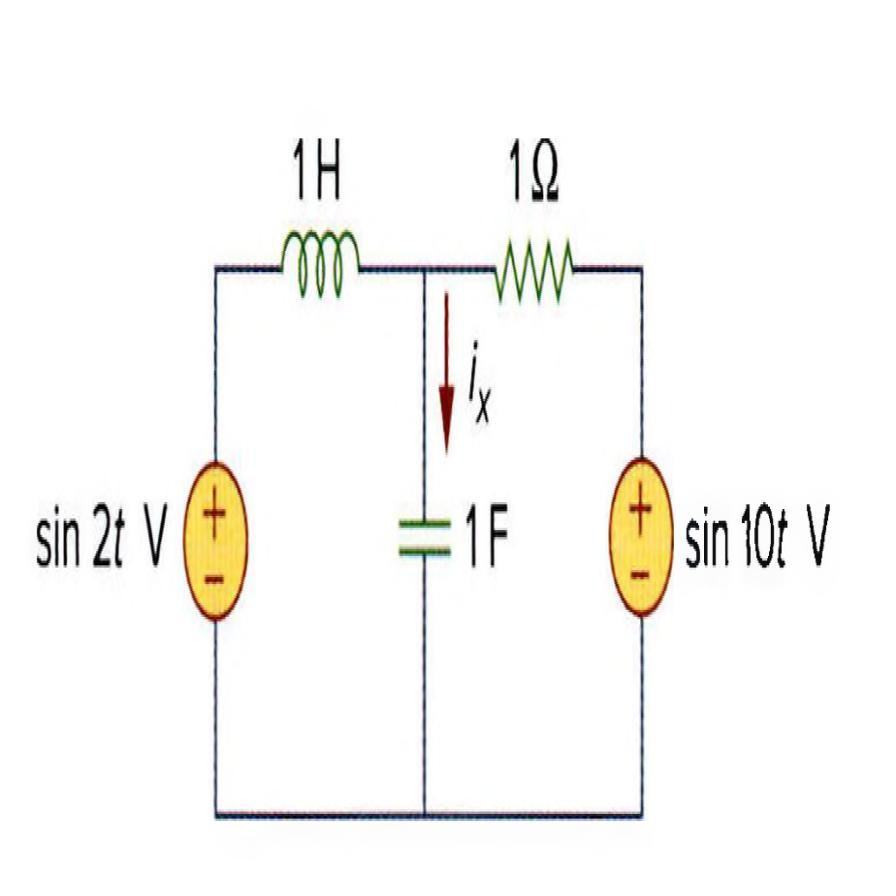C2: (387, 475, 464, 610)
L1: (260, 210, 374, 329)
R1: (494, 219, 584, 332)
V1: (180, 439, 260, 650), (606, 432, 676, 637)
